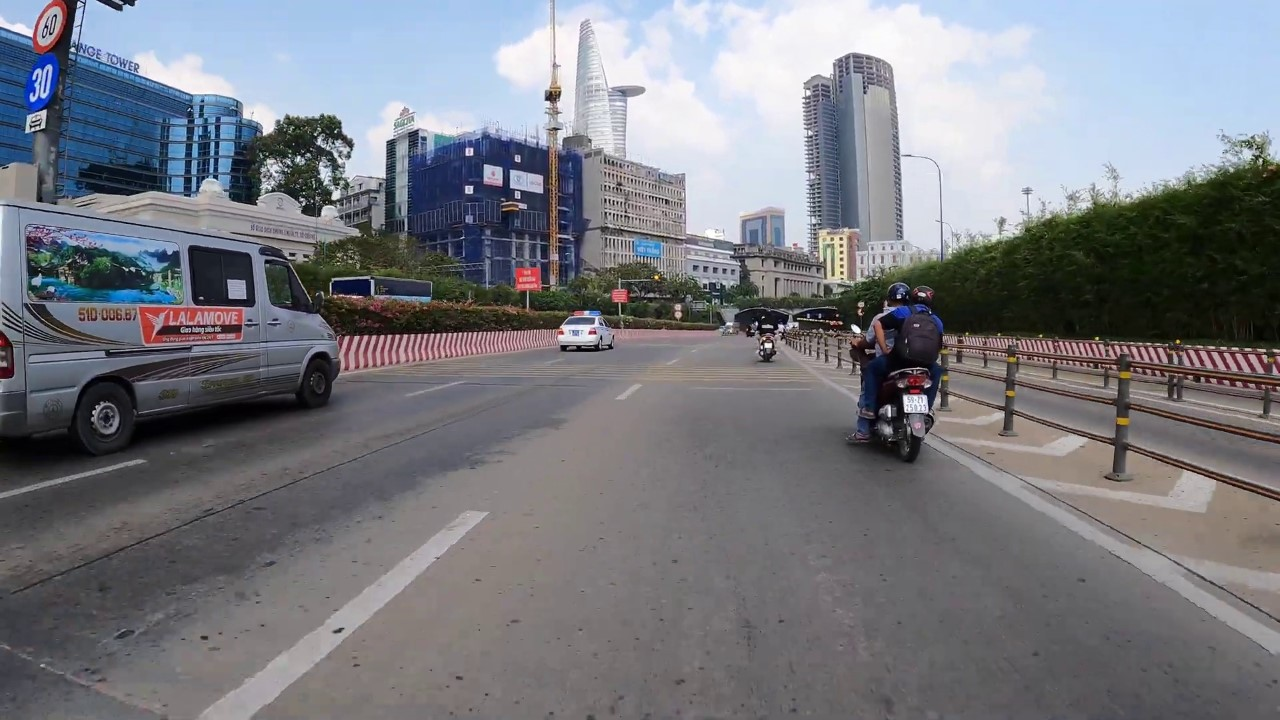gioi_han_60km: (31, 0, 66, 54)
